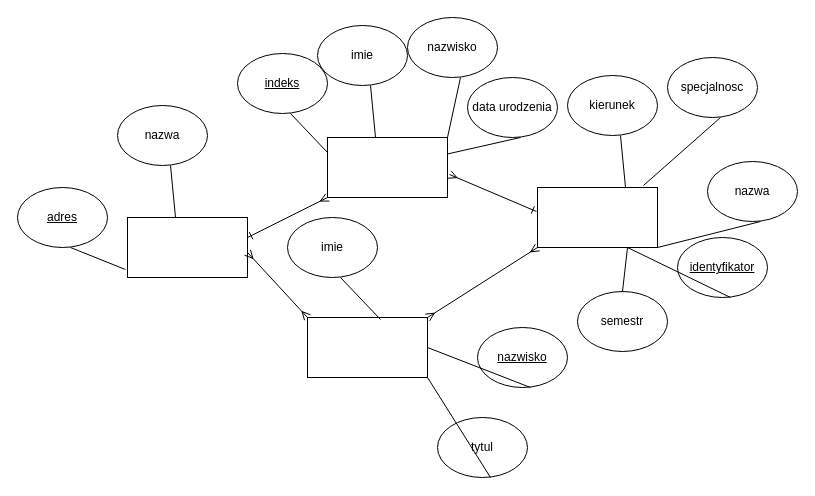
Image size: 815x496. Some labels were removed from this diagram. Each missing label, with the centre of its shape:
grupy: the point at 597,217
pracownicy: the point at 367,347
student: the point at 387,167
wydzial wmii: the point at 187,247
